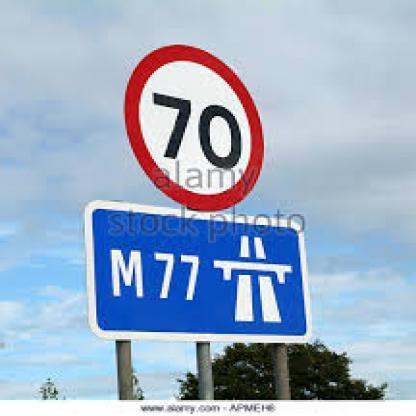Speed Limit -70-: (100, 45, 284, 208)
